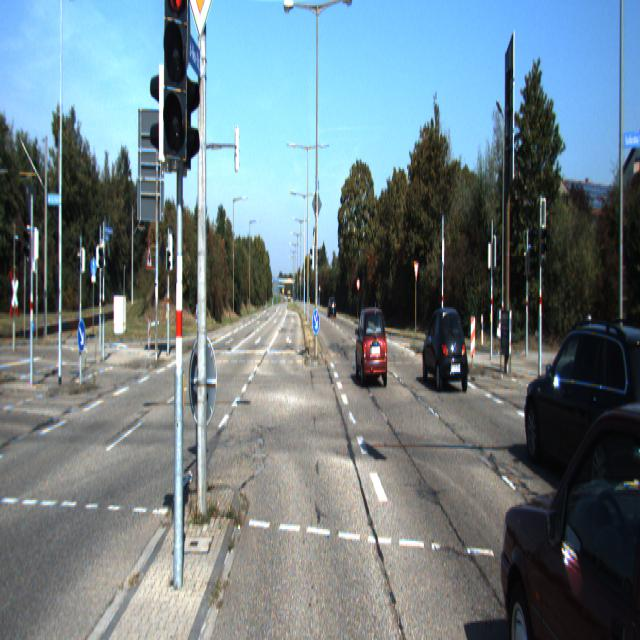Car: (498, 362, 639, 638), (524, 316, 640, 538), (422, 306, 469, 394), (356, 306, 388, 390)
